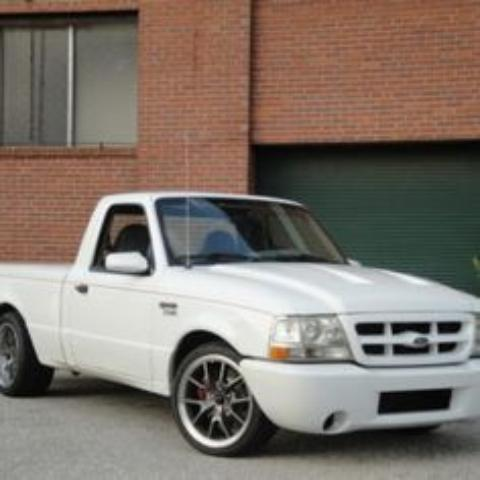pickup-truck: (1, 191, 479, 458)
